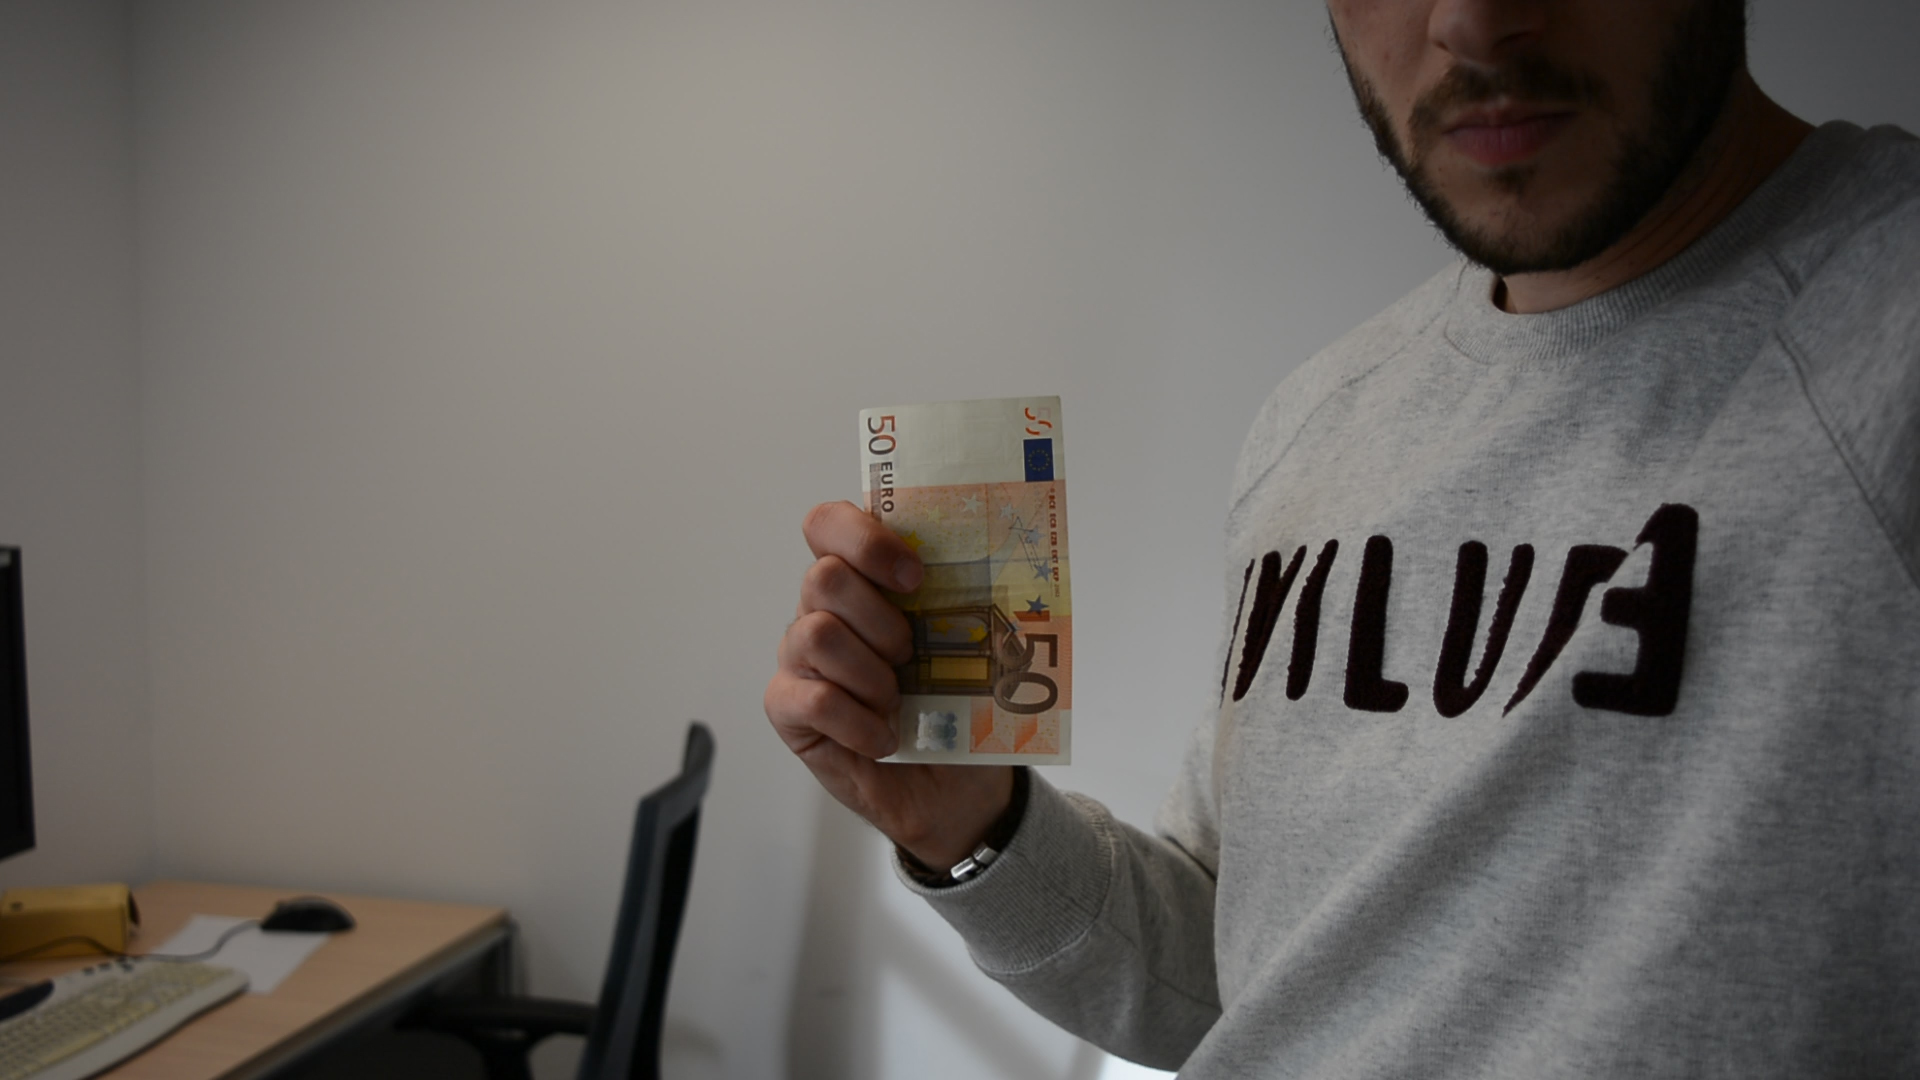billete: (857, 396, 1075, 769)
